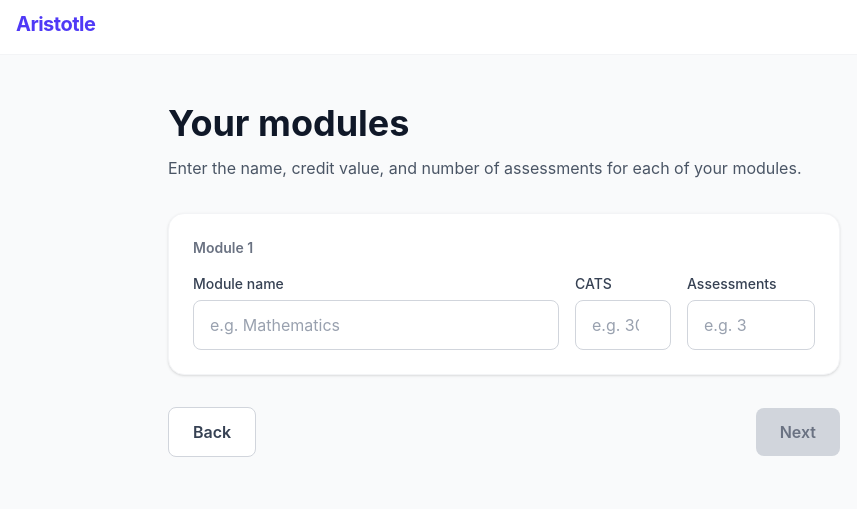
ModuleDetailsPage › navigates back to the module count page on Back click
Click the link "Back": (212, 432) [168, 407, 256, 457]
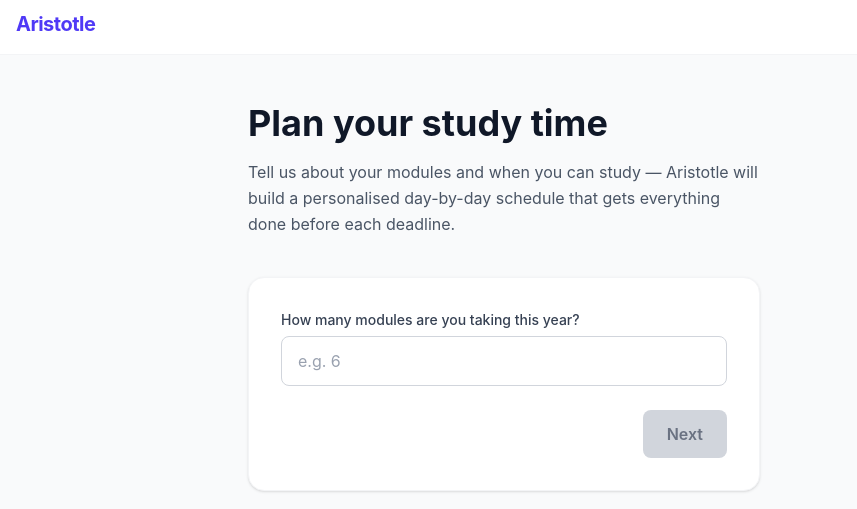
Expected: the number field labelled "How many modules are you taking this year?" is shown, [281, 336, 727, 386]
